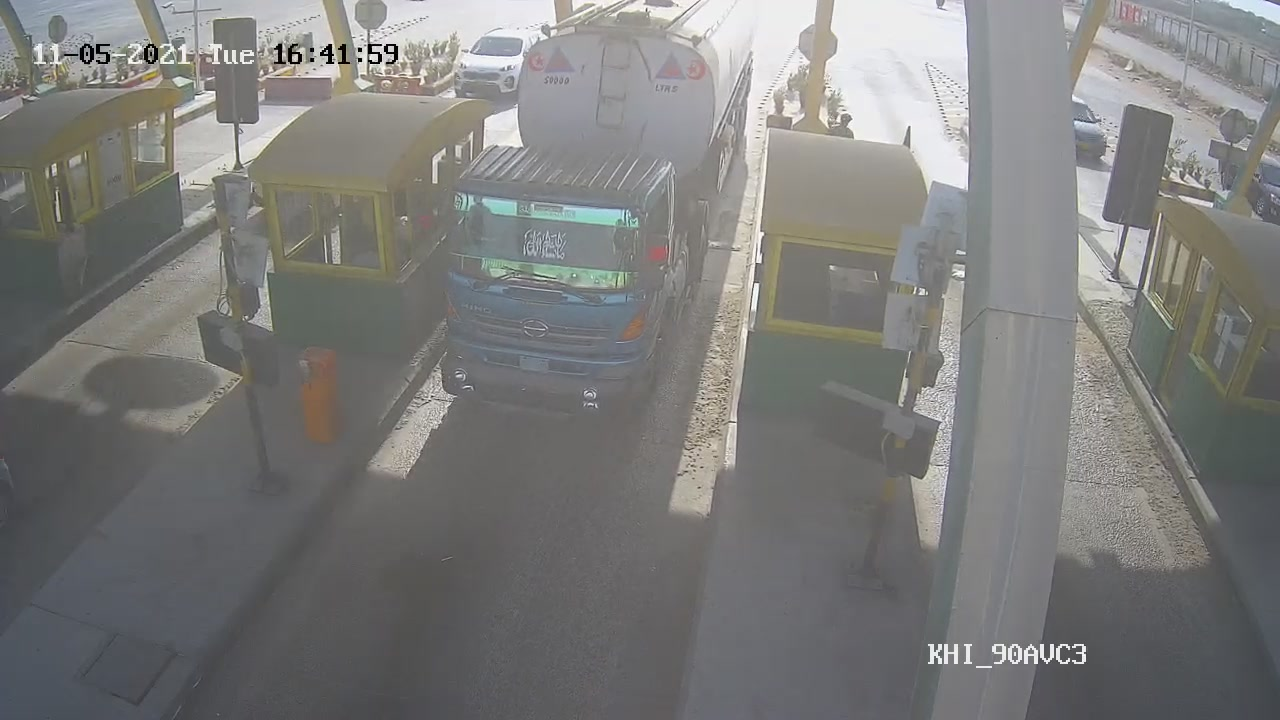F6: (434, 1, 754, 420)
